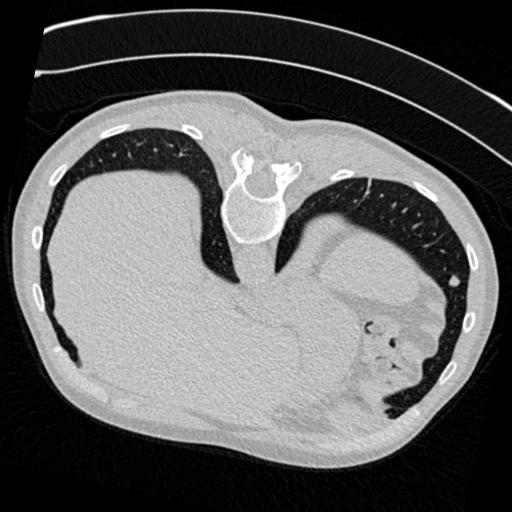nodule: (443, 273, 462, 292)
